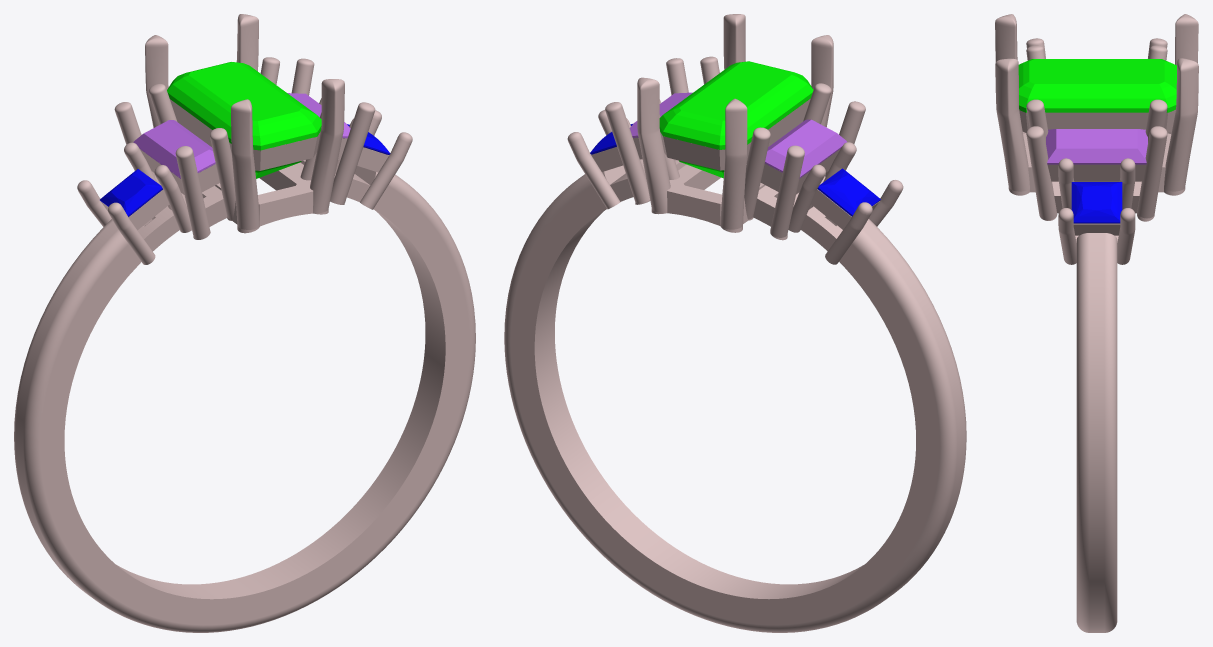
The picture shows the model from 3 angles, left to right: view 1: azimuth 30°, elevation 25°; view 2: azimuth 150°, elevation 25°; view 3: azimuth 270°, elevation 25°; orthographic projection.
Parts seen in each view (by area): view 1: IJEWELL.3dm, EMERALD BUILDER, GG_Baguette_Straight, GG_Princese; view 2: IJEWELL.3dm, EMERALD BUILDER, GG_Baguette_Straight, GG_Princese; view 3: IJEWELL.3dm, EMERALD BUILDER, GG_Baguette_Straight, GG_Princese.
Part boxes in pixels (box(x1,y1,x2,y2)): IJEWELL.3dm: box(14, 14, 475, 632); EMERALD BUILDER: box(167, 62, 321, 178); GG_Baguette_Straight: box(133, 120, 215, 178); GG_Princese: box(100, 169, 162, 216); IJEWELL.3dm: box(504, 14, 966, 632); EMERALD BUILDER: box(659, 61, 813, 178); GG_Baguette_Straight: box(764, 119, 846, 178); GG_Princese: box(817, 168, 880, 216); IJEWELL.3dm: box(995, 14, 1198, 632); EMERALD BUILDER: box(1018, 59, 1176, 112); GG_Baguette_Straight: box(1046, 129, 1147, 164); GG_Princese: box(1071, 182, 1122, 223).
Bounding box in the file's own units: 2.49 × 2.98 × 0.9646.
